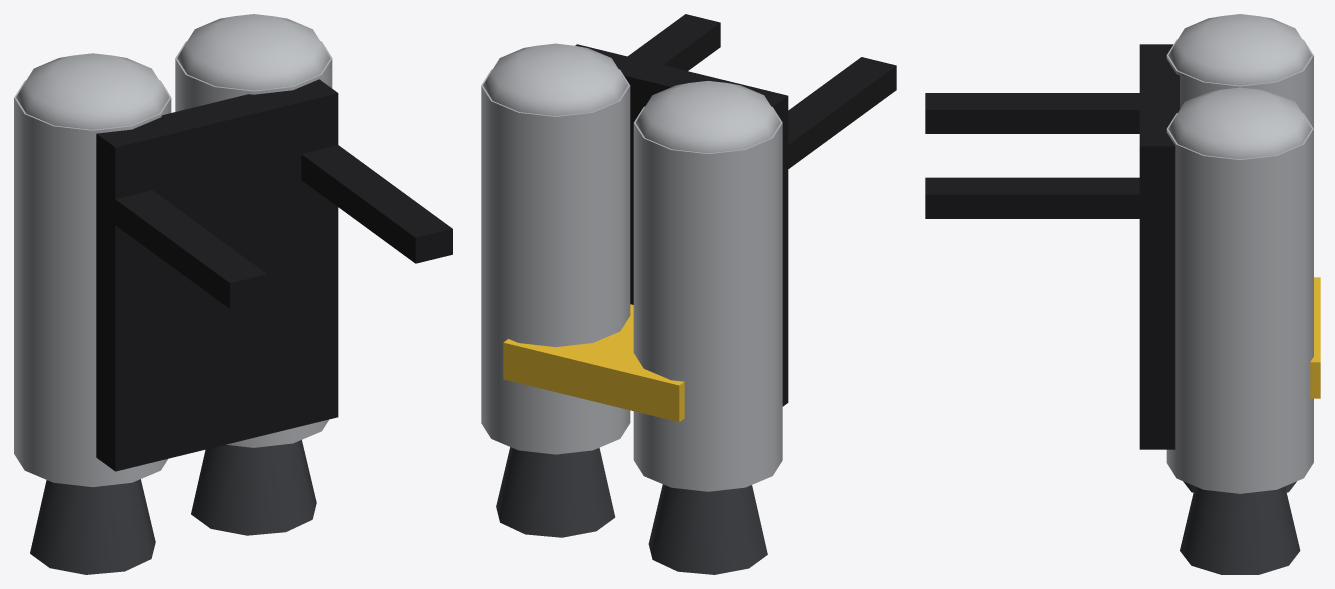
File: jetpack.glb
The picture shows the model from 3 angles, left to right: view 1: azimuth 30°, elevation 25°; view 2: azimuth 150°, elevation 25°; view 3: azimuth 270°, elevation 25°; orthographic projection. The views are drawn at different scales.
Visible parts, largest first — view 1: pack, nozzle_R, nozzle_L; view 2: pack, nozzle_L, nozzle_R; view 3: pack, nozzle_L.
Part boxes in pixels (x1,y1,x2,y2): pack: [14, 14, 452, 487]; nozzle_R: [30, 479, 155, 574]; nozzle_L: [191, 440, 316, 535]; pack: [481, 14, 896, 491]; nozzle_L: [496, 447, 615, 537]; nozzle_R: [648, 484, 767, 574]; pack: [925, 14, 1320, 493]; nozzle_L: [1180, 486, 1300, 574].
Bounding box in the file's own units: 0.48 × 0.745 × 0.59.
